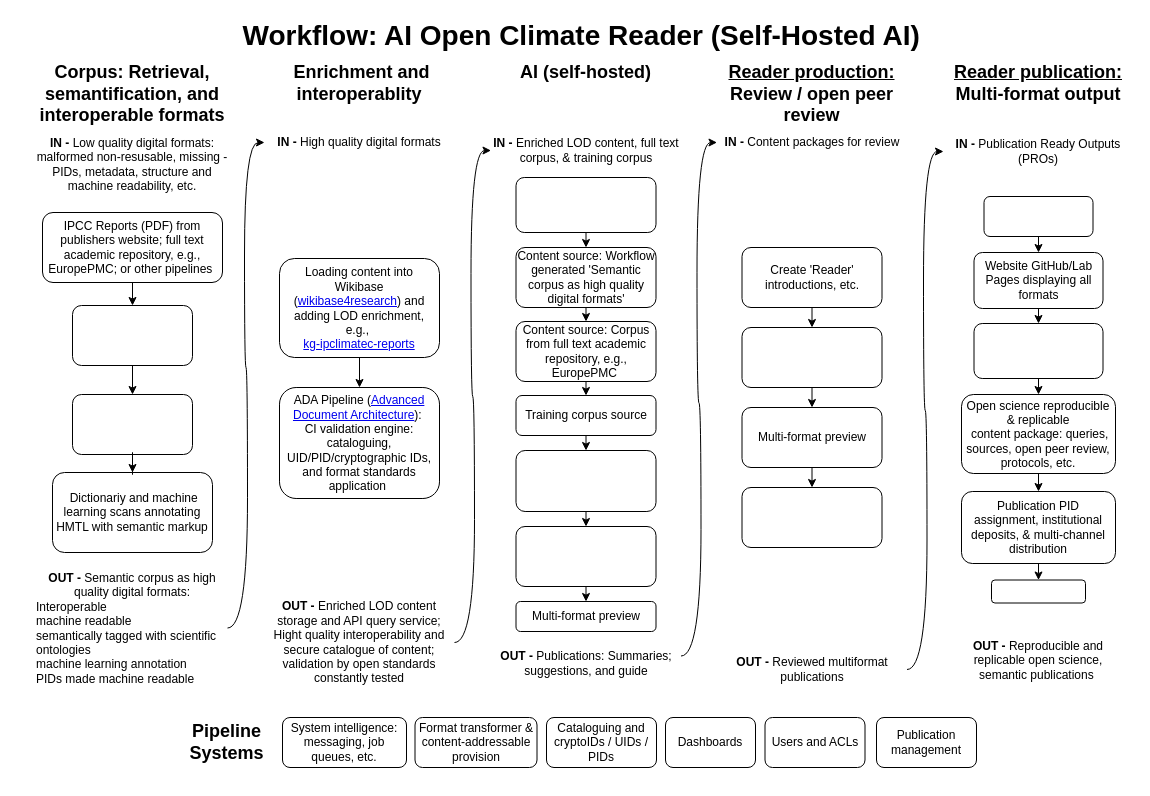
Some shapes in this 1150 by 796 pixel diagram are drawn without their labels. The shapes that lost their labels are listed below. From the top down, each one's box as (x1, y1, x2, y2) in pixels, then its label:
(515, 176, 656, 232): AI Engine (Self-Hosted) e.g., falcon-7b , falcon-40b-v2 , vicuna-33b-v1.3
(983, 196, 1093, 236): GitHub/Lab repository deposit
(72, 304, 192, 366): py4ami processess PDFs (if needed)
(973, 322, 1103, 378): LOD access page i.e: linking to sources and all outputs, and reuse
(741, 326, 882, 388): Review and open peer review
(72, 394, 192, 454): Converted to Scholarly HTML
(515, 450, 656, 512): Create: Summaries; suggestions, and Guide Publication.
(741, 486, 882, 548): Multi-format publication creation
(515, 526, 656, 586): Enable manual tagging of content to add to corpus
(990, 579, 1086, 603): Metrics data
